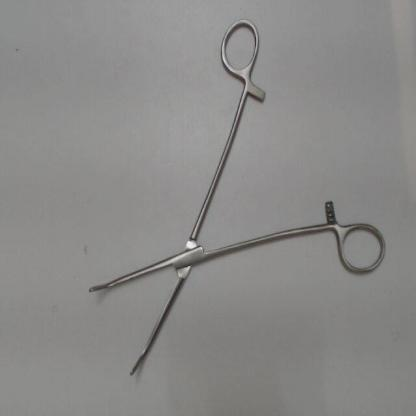Lahey Forceps: (82, 15, 390, 385)
